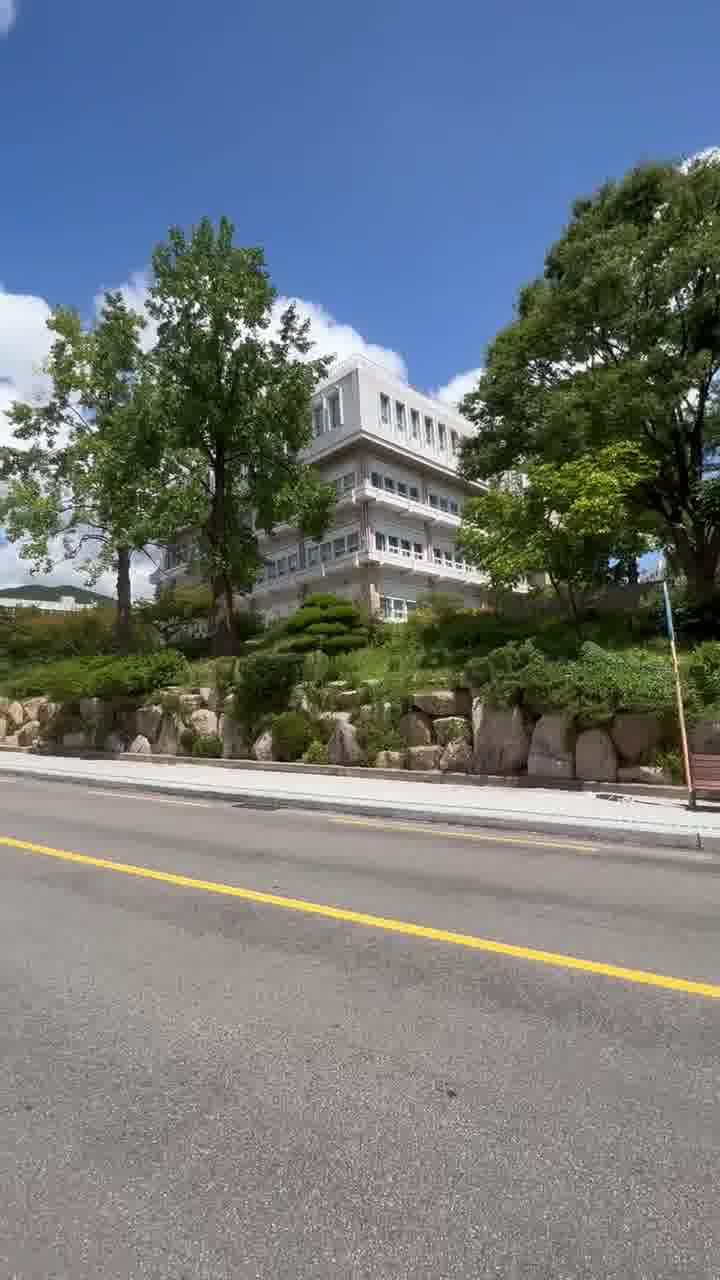building: (328, 364, 470, 606)
